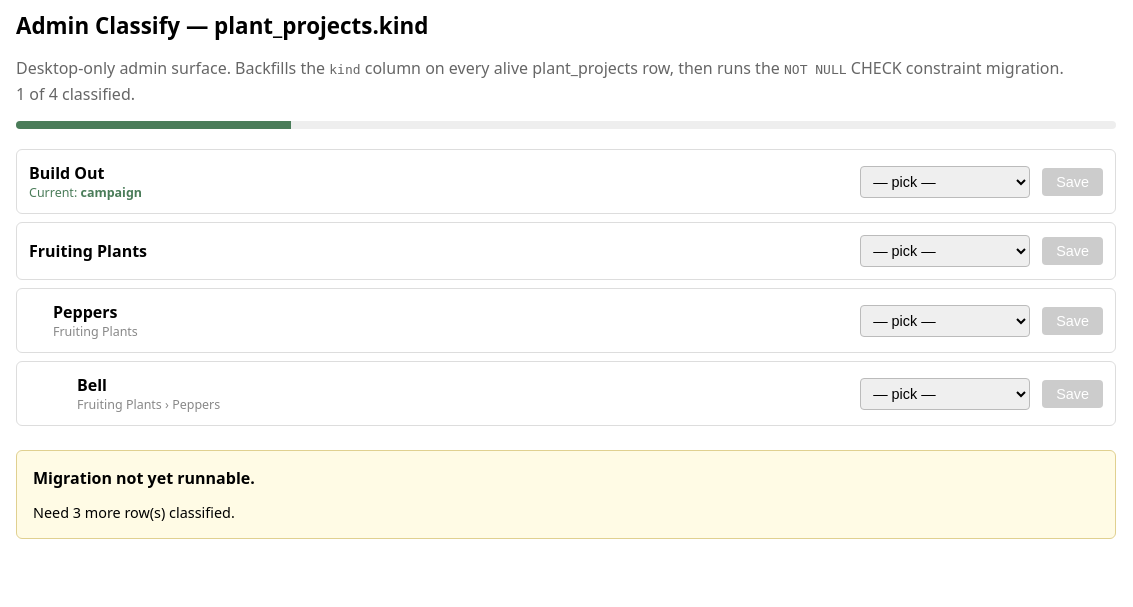
Test case: ProjectsAdminClassify — crop type is required for cultivar (V4-INTAKE-001) › distinguishes an unloadable crop-type vocab from a user who skipped the field
Expected: the text "Bell" is shown, [77,374,107,396]
Select "Cultivar reference" in the dropdown named "kind for Bell" at (945, 394), box [860,378,1030,410]
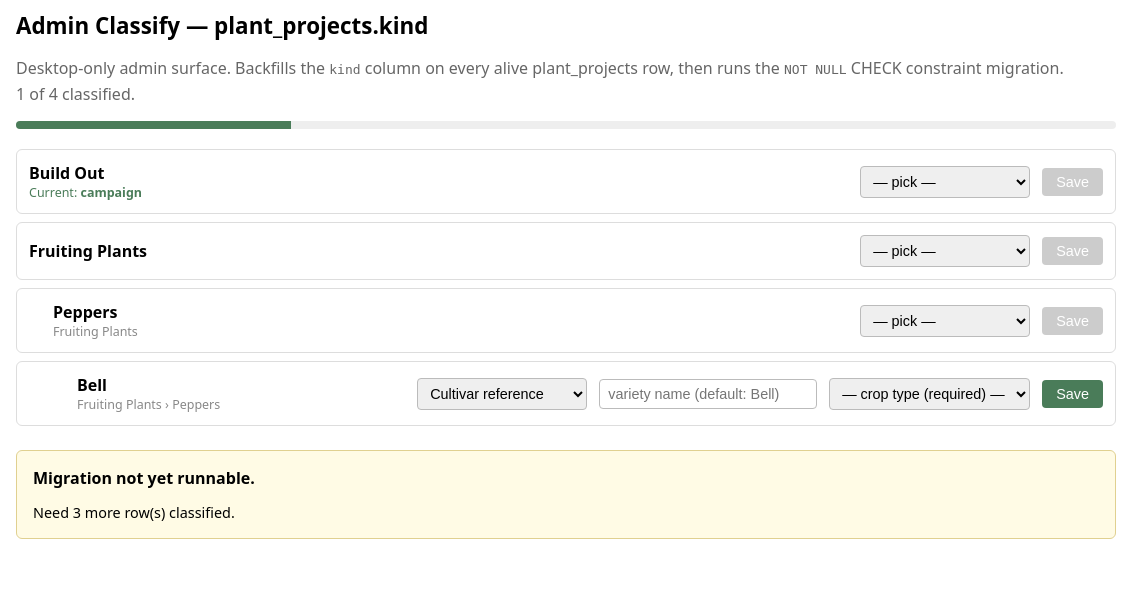
Click the button "Save" in the row of "Fruiting Plants › Peppers" at (1073, 394), box [1042,380,1103,408]
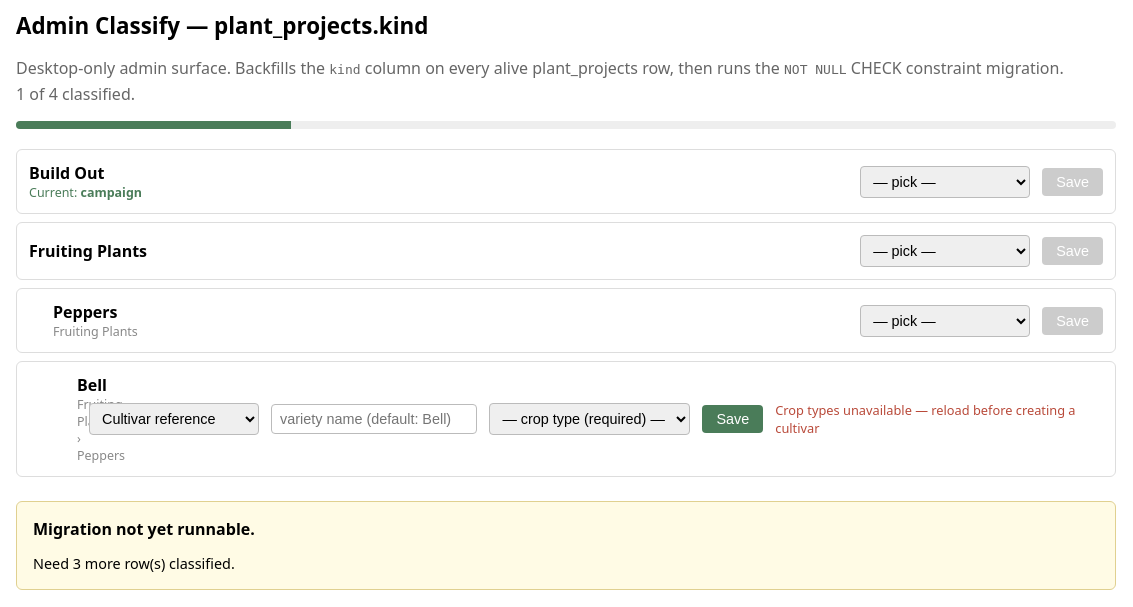
Expected: the message shows "Crop types unavailable", [775,401,1076,437]
